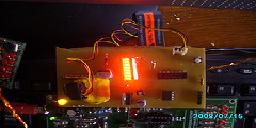LED: (120, 57, 141, 81)
